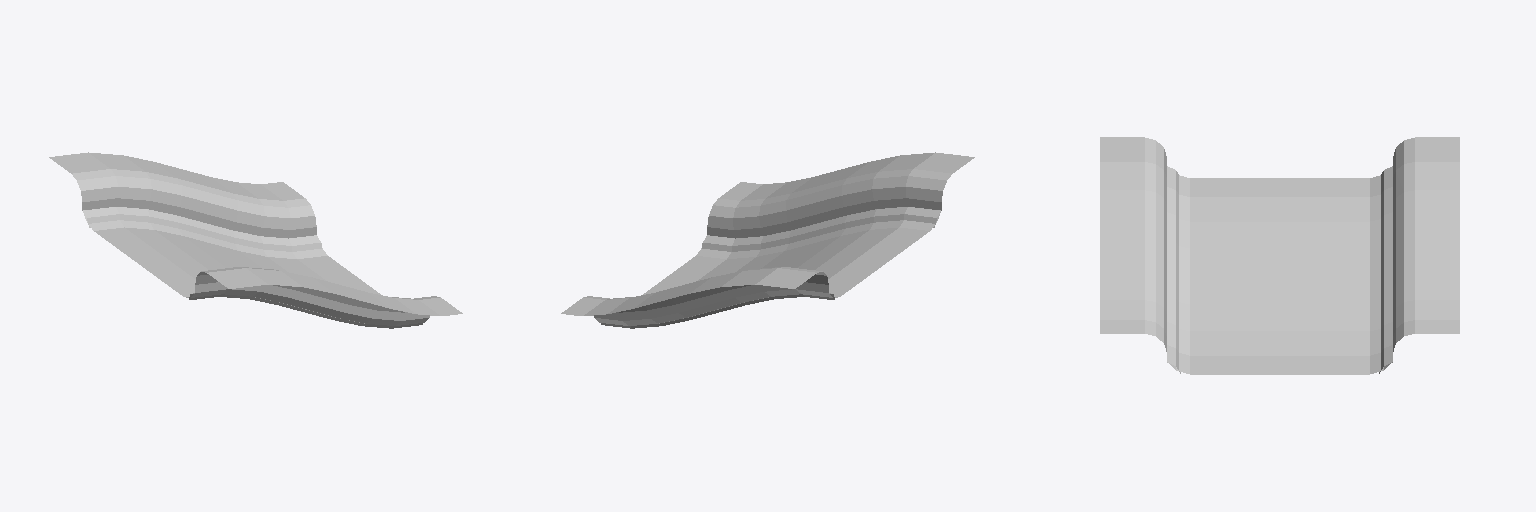
The model's file is Track_Striped_Incline_Double.obj.
3 views of the same model, side by side, from view 1: azimuth 30°, elevation 25°; view 2: azimuth 150°, elevation 25°; view 3: azimuth 270°, elevation 25° (orthographic).
Visible parts, largest first — view 1: Grass, Dirt, Raceline_Color_2, Raceline_Color_1; view 2: Grass, Dirt, Raceline_Color_2, Raceline_Color_1; view 3: Dirt, Grass, Raceline_Color_2, Raceline_Color_1.
Boxes of the visible parts, <box> form: Grass: <box>49,152,462,320</box>; Dirt: <box>83,212,428,325</box>; Raceline_Color_2: <box>83,207,392,328</box>; Raceline_Color_1: <box>116,207,422,328</box>; Grass: <box>561,152,974,320</box>; Dirt: <box>595,212,940,325</box>; Raceline_Color_2: <box>631,207,940,328</box>; Raceline_Color_1: <box>601,207,907,328</box>; Dirt: <box>1167,175,1392,374</box>; Grass: <box>1100,137,1459,351</box>; Raceline_Color_2: <box>1167,166,1392,351</box>; Raceline_Color_1: <box>1167,187,1392,373</box>.
Size of the model in its own units: 3 by 1.5 by 4.